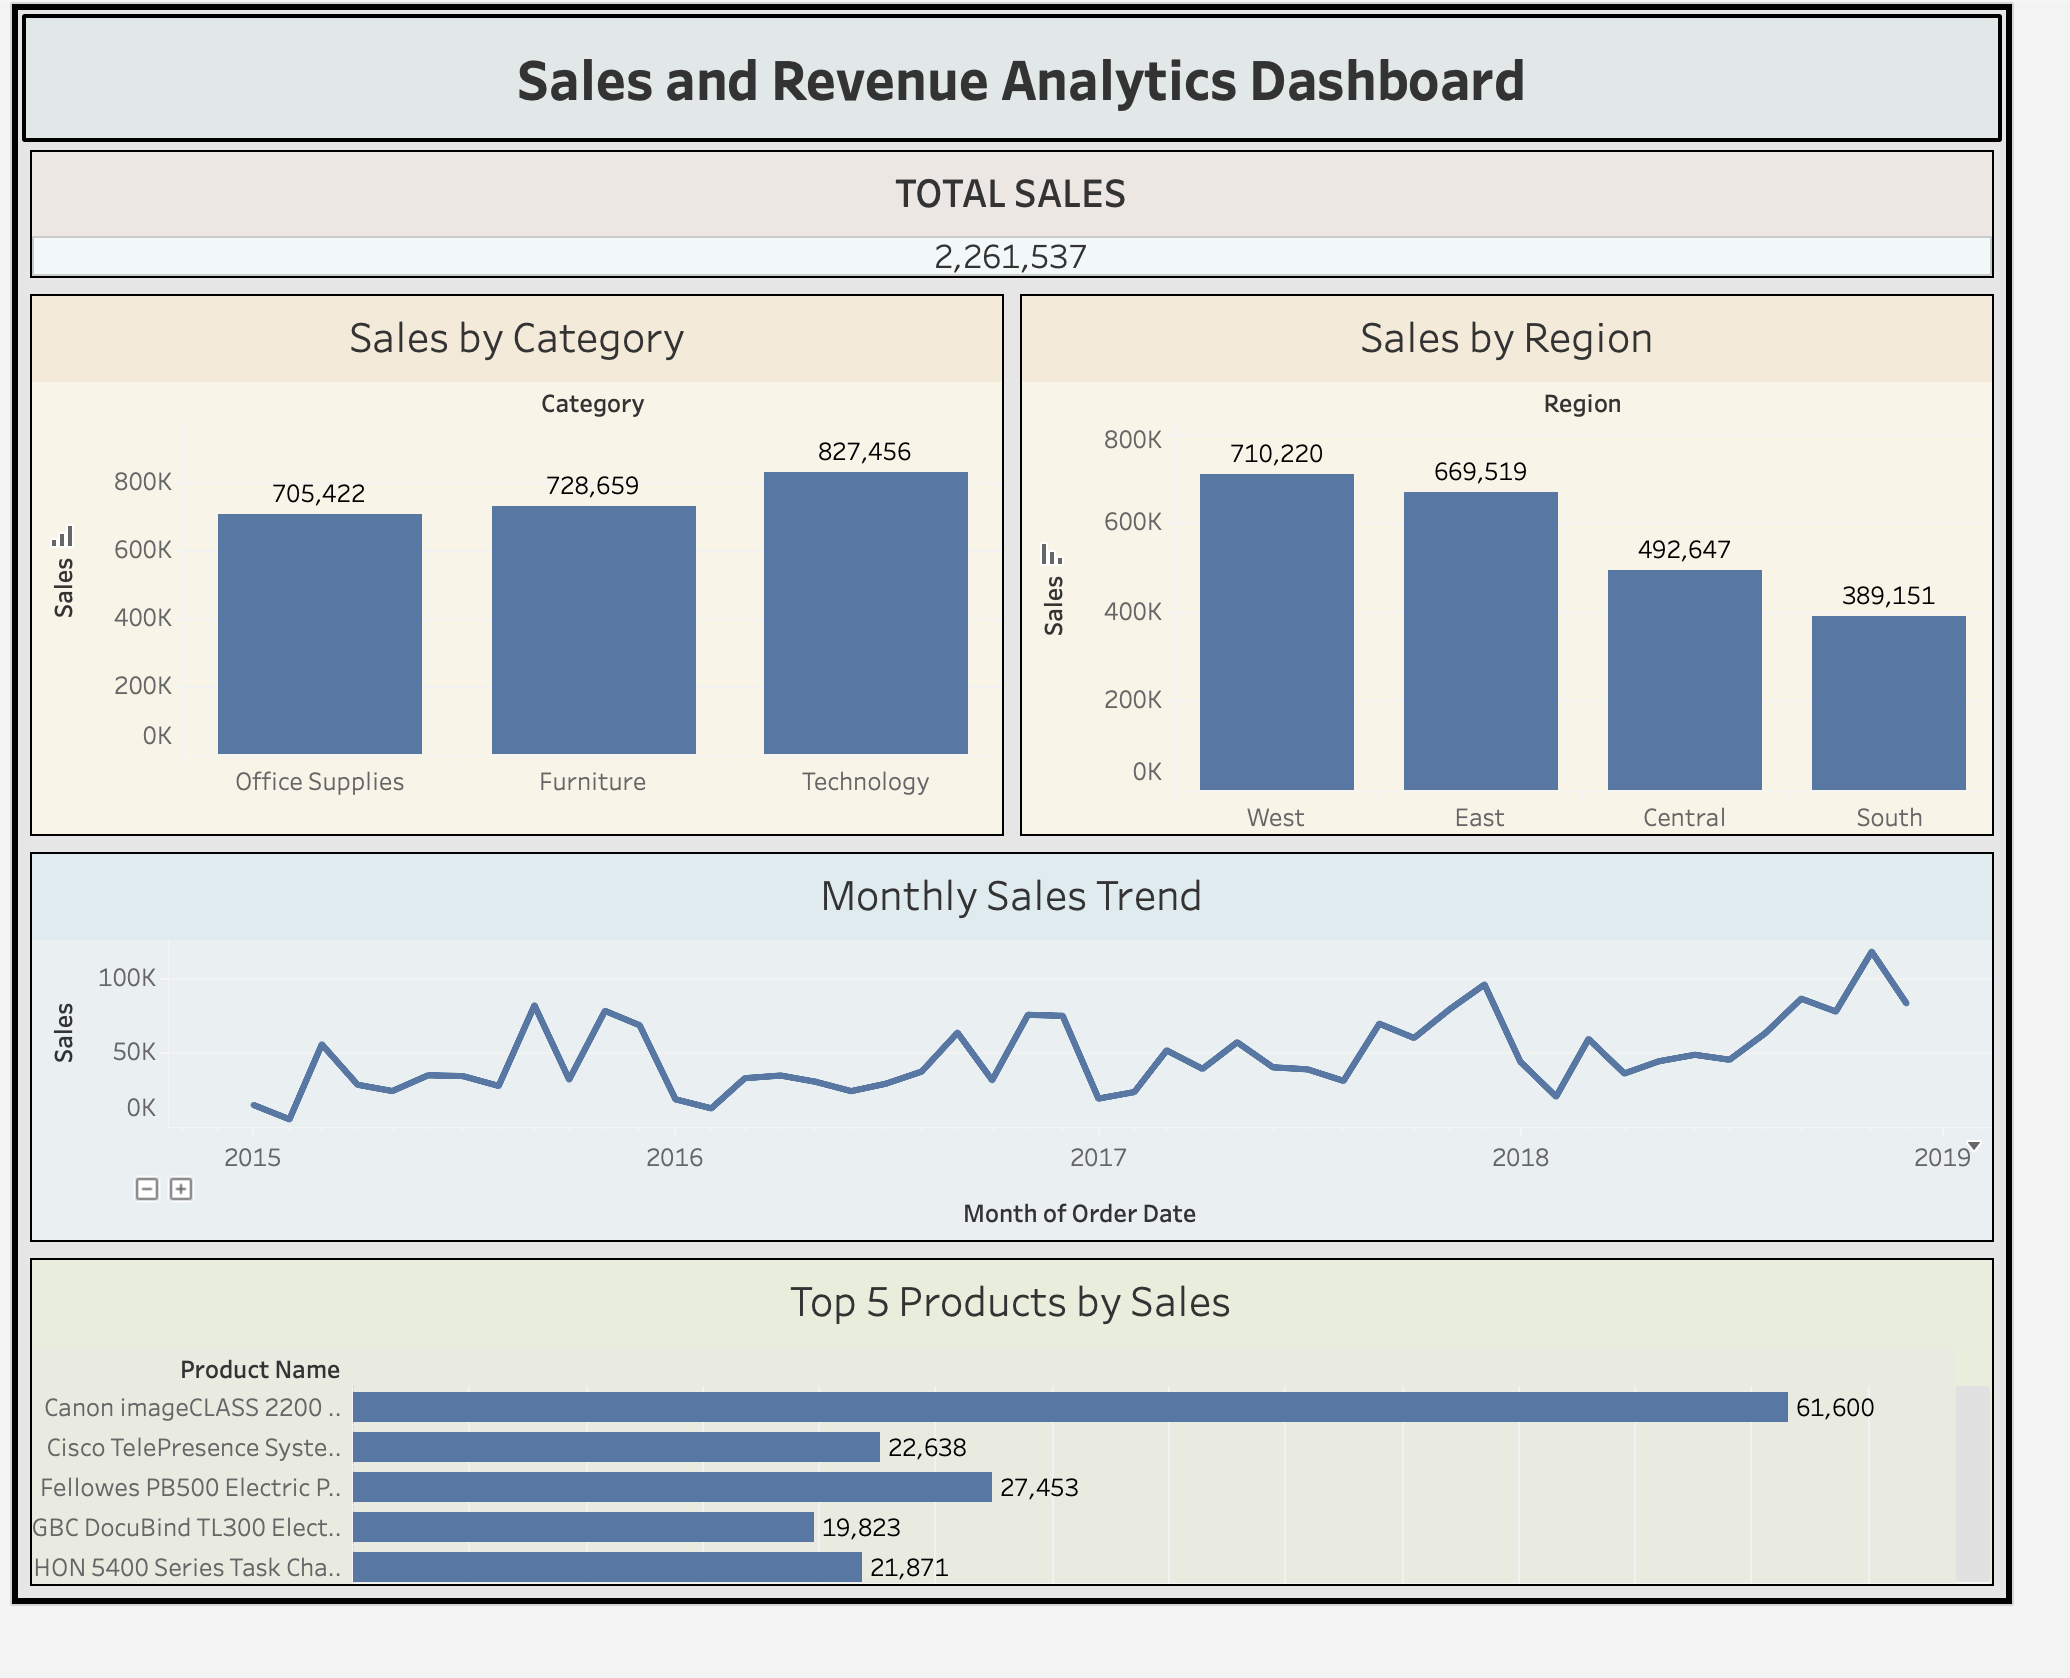

What the dashboard file says about the page in this screenshot:
{"tool":"tableau","page":{"name":"Sales & Revenue Analysis Dashboard","canvas":[1000,800],"ordinal":0},"visuals":[{"type":"title","box":[5,5,990,64]},{"type":"worksheet","title":"Total Sales","mark":"Automatic","box":[5,69,990,72]},{"type":"worksheet","title":"Sales by Category","mark":"Automatic","rows":["Sales"],"cols":["Category"],"box":[5,141,495,278.8]},{"type":"worksheet","title":"Sales by Region","mark":"Automatic","rows":["Sales"],"cols":["Region"],"box":[500,141,495,278.8]},{"type":"worksheet","title":"Monthly Sales Trend","mark":"Automatic","rows":["Sales"],"cols":["Order Date"],"box":[5,419.8,990,203.4]},{"type":"worksheet","title":"Top 5 Products (by total sales)","mark":"Automatic","rows":["Product Name"],"cols":["Sales"],"box":[5,623.3,990,171.7]}]}

Visuals, with their boxes in screenshot pixels (x1, y1, x2, y2), scaled from the page's 1000x800 canvas onto the 2070x1678 screenshot:
title: crop(10, 10, 2060, 145)
"Total Sales" worksheet: crop(10, 145, 2060, 296)
"Sales by Category" worksheet: crop(10, 296, 1035, 881)
"Sales by Region" worksheet: crop(1035, 296, 2060, 881)
"Monthly Sales Trend" worksheet: crop(10, 881, 2060, 1307)
"Top 5 Products (by total sales)" worksheet: crop(10, 1307, 2060, 1668)
